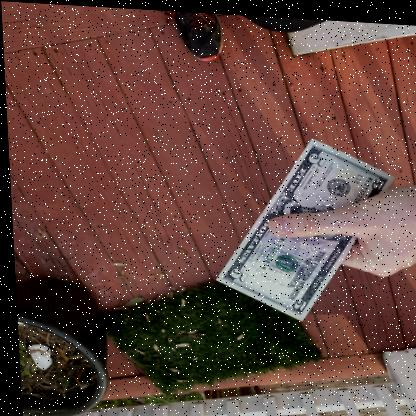five-front: (213, 142, 394, 322)
